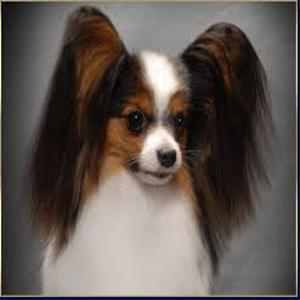yell: (29, 6, 268, 300)
